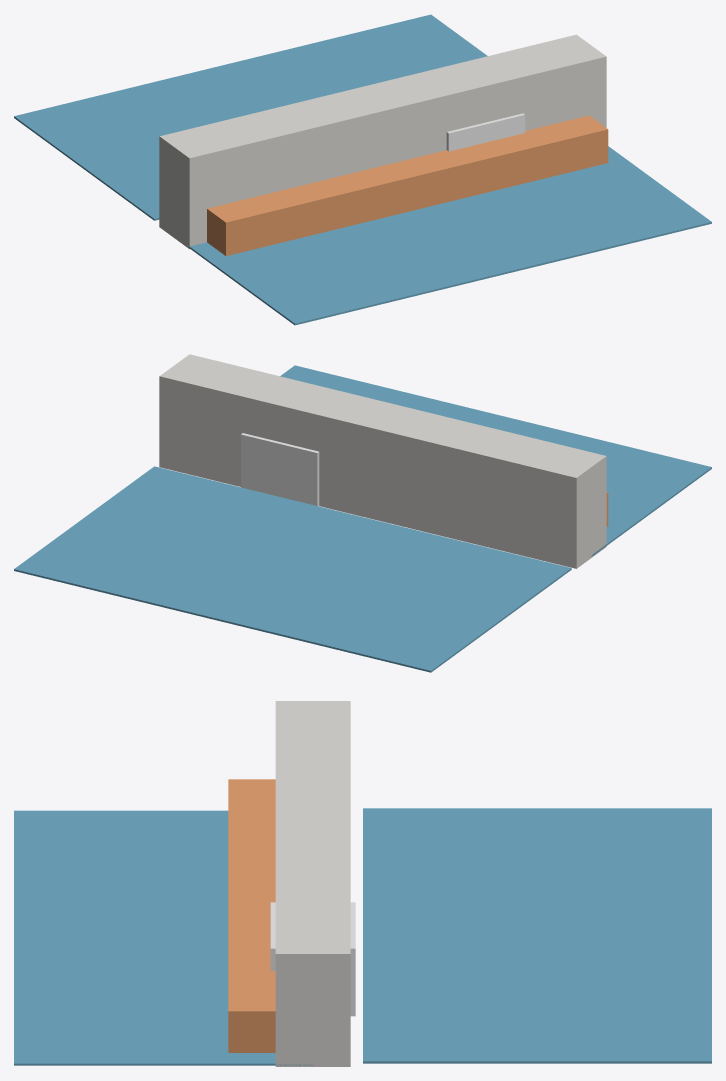
The model's file is itaipu.glb.
3 renders of one model, top to bottom at view 1: azimuth 30°, elevation 25°; view 2: azimuth 150°, elevation 25°; view 3: azimuth 270°, elevation 25°, orthographic. The views are drawn at different scales.
Visible parts, largest first — view 1: Presa_principal, Rio_aguas_abajo, Embalse, Casa_de_maquinas, Vertedero; view 2: Embalse, Presa_principal, Rio_aguas_abajo, Vertedero; view 3: Embalse, Rio_aguas_abajo, Presa_principal, Casa_de_maquinas, Vertedero.
Part boxes in pixels (x1=…): Presa_principal: x1=159, y1=34, x2=606, y2=249; Rio_aguas_abajo: x1=189, y1=146, x2=711, y2=325; Embalse: x1=14, y1=14, x2=487, y2=220; Casa_de_maquinas: x1=207, y1=115, x2=608, y2=256; Vertedero: x1=446, y1=113, x2=525, y2=151; Embalse: x1=14, y1=466, x2=571, y2=672; Presa_principal: x1=159, y1=354, x2=606, y2=568; Rio_aguas_abajo: x1=280, y1=365, x2=711, y2=556; Vertedero: x1=241, y1=433, x2=319, y2=506; Embalse: x1=363, y1=808, x2=711, y2=1063; Rio_aguas_abajo: x1=14, y1=810, x2=312, y2=1065; Presa_principal: x1=275, y1=701, x2=350, y2=1066; Casa_de_maquinas: x1=228, y1=779, x2=275, y2=1052; Vertedero: x1=270, y1=902, x2=355, y2=1016.
Size of the model in its own units: 2.4 by 0.5 by 2.8.
